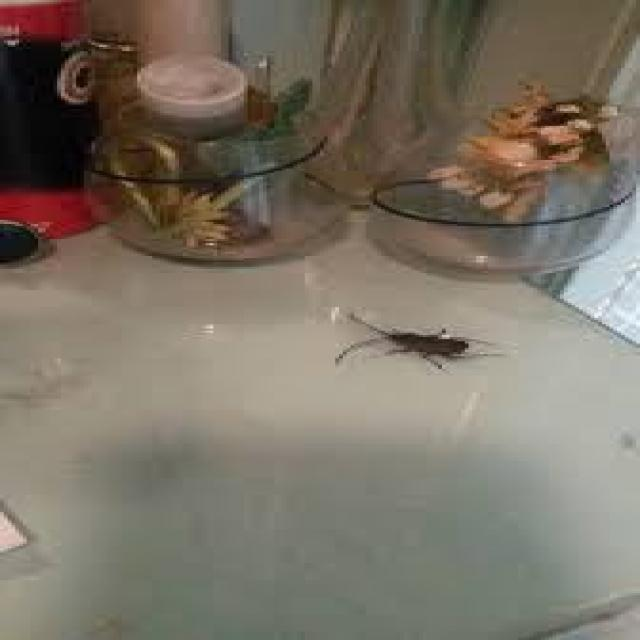Cockroach: (352, 301, 510, 396)
